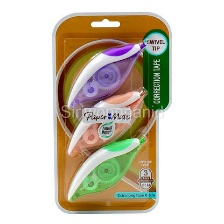book: (47, 9, 173, 215)
correction_fluid: (64, 85, 149, 158), (65, 39, 149, 111), (65, 132, 149, 204)
